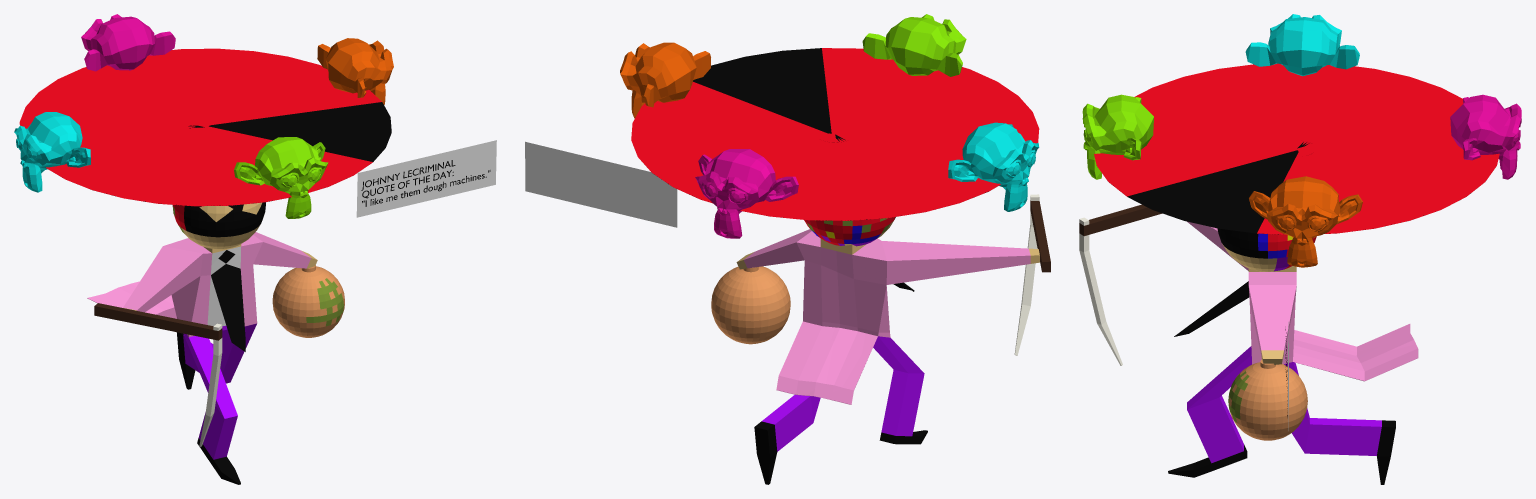
File: Johnny LeCriminal.fbx
3 views of the same model, side by side, from view 1: azimuth 30°, elevation 25°; view 2: azimuth 150°, elevation 25°; view 3: azimuth 270°, elevation 25° (orthographic). The views are drawn at different scales.
Visible parts, largest first — view 1: Sphere.001, Cube, Plane, Suzanne, Sphere, Suzanne.002, Suzanne.001, Suzanne.003, Cube.001, Text; view 2: Sphere.001, Cube, Plane, Suzanne.001, Sphere, Suzanne.002, Suzanne, Suzanne.003, Cube.001; view 3: Sphere.001, Cube, Suzanne.003, Sphere, Suzanne.002, Suzanne.001, Suzanne, Cube.001.
Boxes of the visible parts, box(x1,y1,x2,y2) form: Sphere.001: box(19, 48, 391, 249); Cube: box(87, 232, 317, 484); Plane: box(356, 140, 496, 217); Suzanne: box(234, 137, 328, 218); Sphere: box(272, 265, 344, 337); Suzanne.002: box(14, 112, 90, 192); Suzanne.001: box(81, 14, 175, 71); Suzanne.003: box(317, 38, 393, 104); Cube.001: box(94, 303, 222, 447); Text: box(361, 160, 490, 206); Sphere.001: box(631, 48, 1039, 246); Cube: box(736, 229, 1039, 484); Plane: box(525, 141, 677, 227); Suzanne.001: box(695, 149, 798, 238); Sphere: box(711, 266, 790, 344); Suzanne.002: box(948, 122, 1039, 211); Suzanne: box(862, 14, 966, 76); Suzanne.003: box(620, 42, 710, 118); Cube.001: box(1014, 194, 1050, 355); Sphere.001: box(1094, 63, 1499, 271); Cube: box(1168, 221, 1418, 484); Suzanne.003: box(1249, 176, 1362, 267); Sphere: box(1228, 359, 1307, 440); Suzanne.002: box(1245, 14, 1359, 76); Suzanne.001: box(1450, 94, 1521, 179); Suzanne: box(1082, 94, 1153, 179); Cube.001: box(1079, 204, 1162, 365).
Size of the model in its own units: 1483 by 1074 by 1111.
